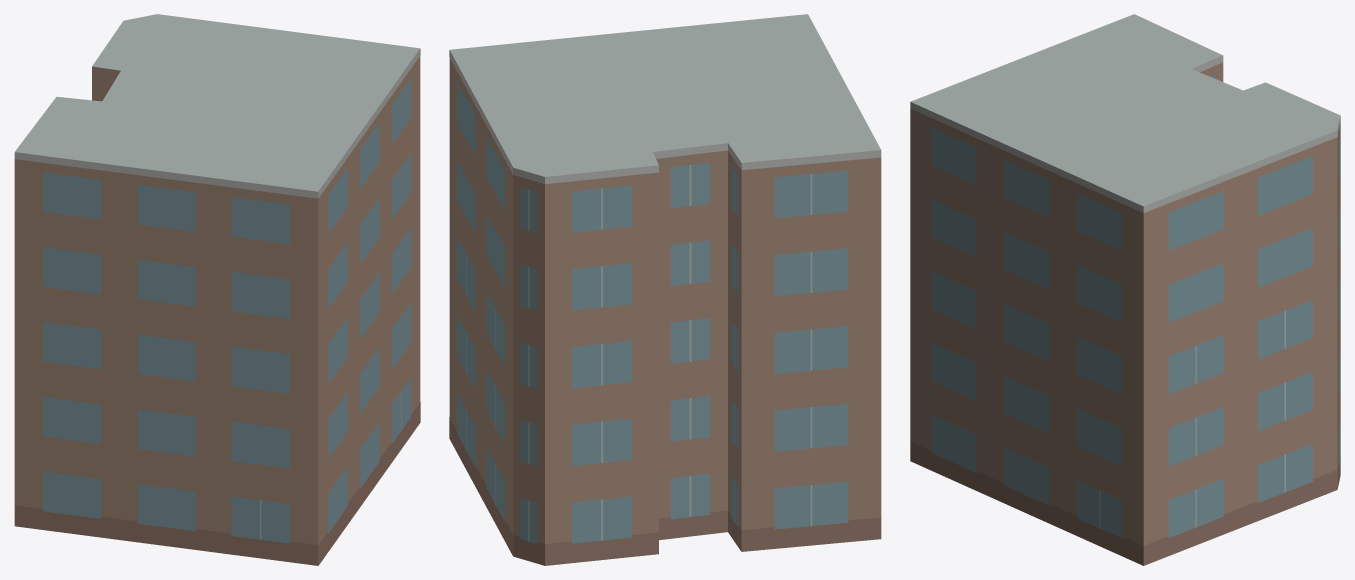
Rendered from survey-upis-32881093.glb.
3 renders of one model, left to right at view 1: azimuth 30°, elevation 25°; view 2: azimuth 150°, elevation 25°; view 3: azimuth 270°, elevation 25°, orthographic. The views are drawn at different scales.
Parts seen in each view (by area): view 1: survey-upis-32881093.tmp; view 2: survey-upis-32881093.tmp; view 3: survey-upis-32881093.tmp.
Boxes of the visible parts, <box> form: survey-upis-32881093.tmp: <box>14,14,420,565</box>; survey-upis-32881093.tmp: <box>449,14,881,565</box>; survey-upis-32881093.tmp: <box>910,14,1340,565</box>.
Size of the model in its own units: 15.06 by 13.1 by 14.22.
